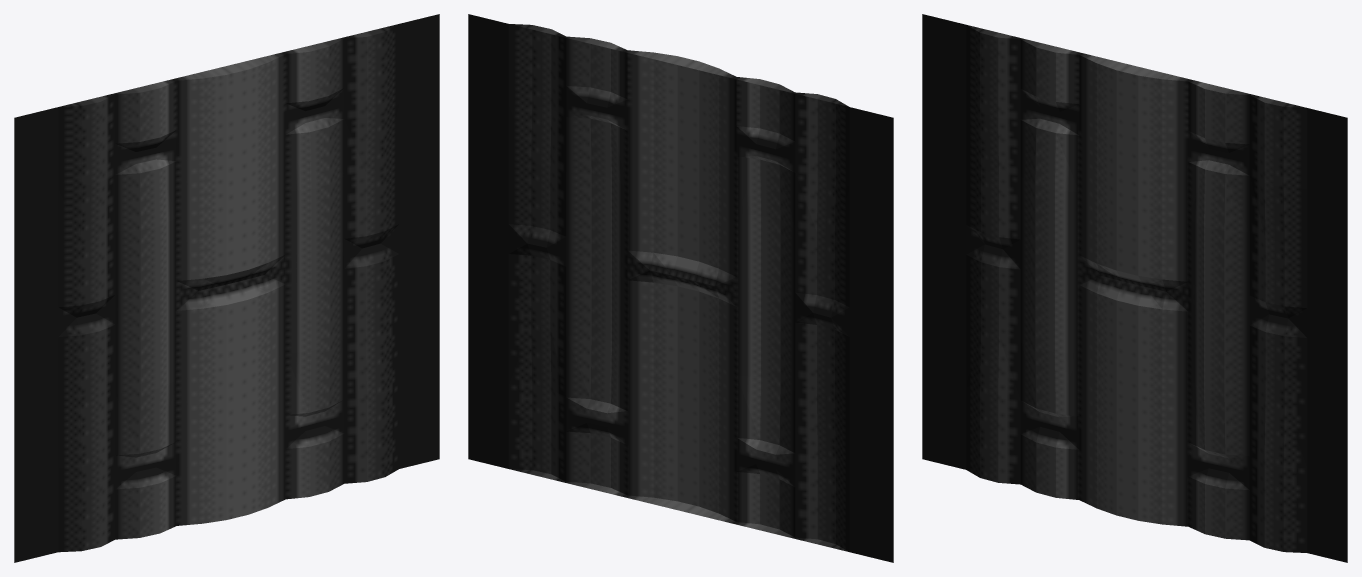
File: stor1_6.fbx
3 renders of one model, left to right at view 1: azimuth 30°, elevation 25°; view 2: azimuth 150°, elevation 25°; view 3: azimuth 330°, elevation 25°, orthographic.
Parts seen in each view (by area): view 1: stor1_6_mesh; view 2: stor1_6_mesh; view 3: stor1_6_mesh.
Part boxes in pixels (box(x1,y1,x2,y2)): stor1_6_mesh: box(14, 14, 439, 562); stor1_6_mesh: box(468, 14, 893, 562); stor1_6_mesh: box(922, 14, 1347, 562).
Size of the model in its own units: 256 by 256 by 9.54.
